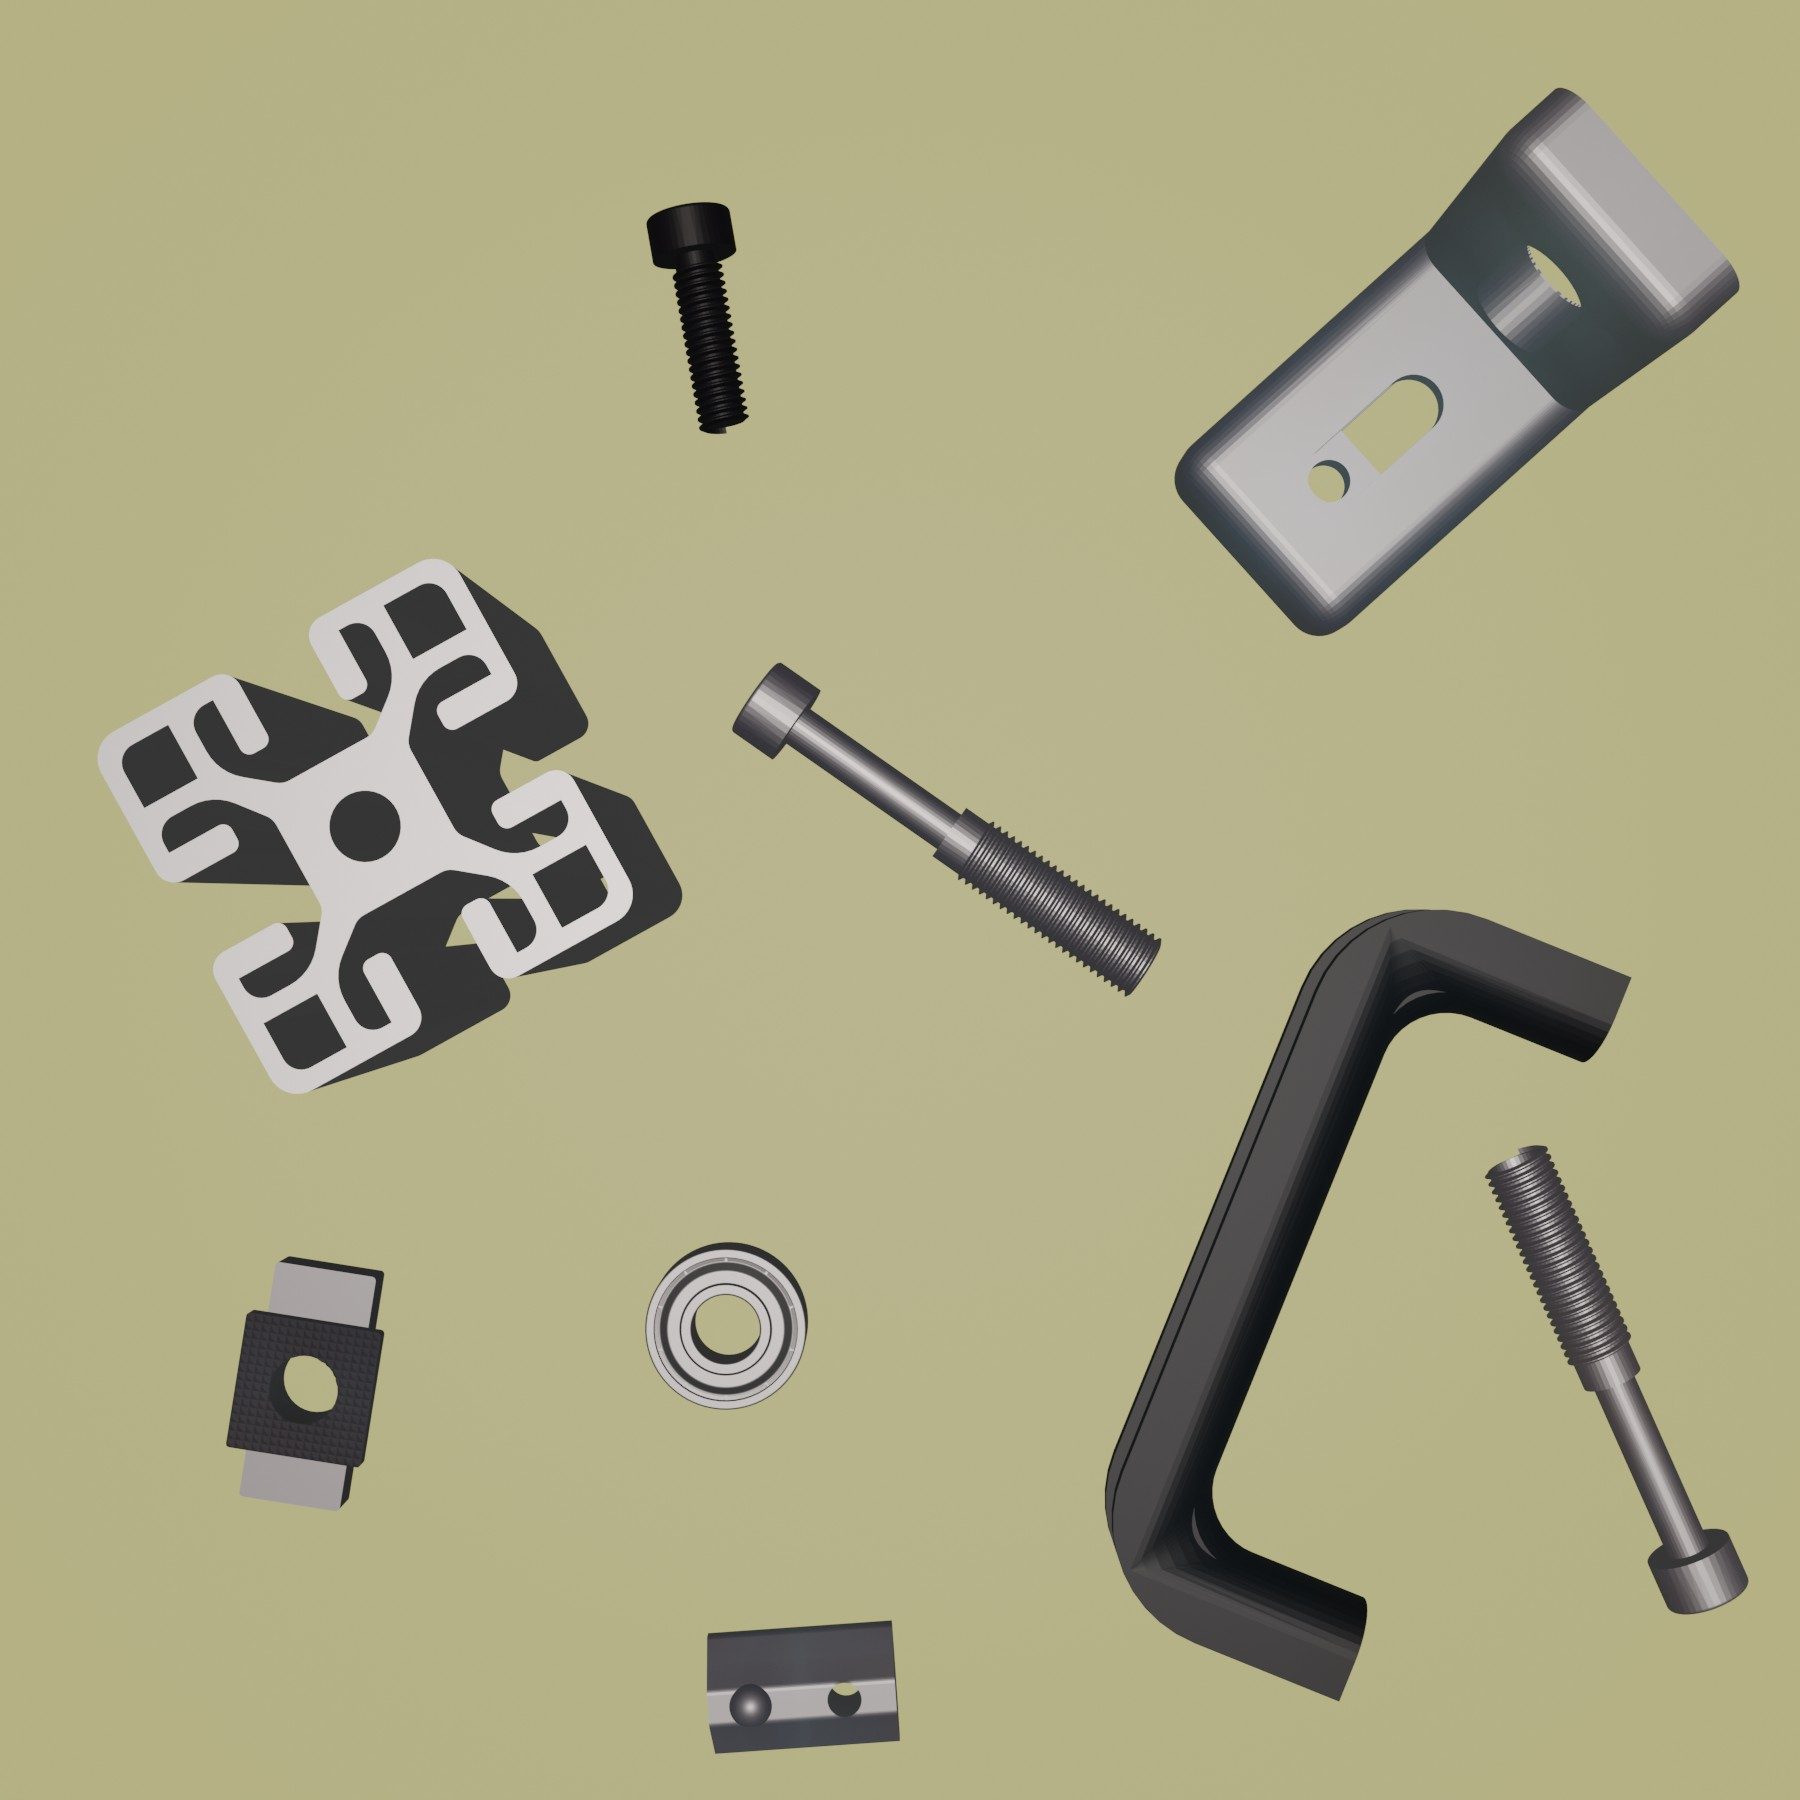Aluminium Extension: (96, 552, 682, 1101)
Ball Bearing: (645, 1240, 813, 1411)
Multiwinkel: (1174, 87, 1744, 641)
Pull Handle: (1101, 905, 1635, 1704)
Shoulder Socket Head Cap Screw: (729, 661, 1162, 1001), (1479, 1141, 1751, 1619)
Socket Head Cap Screw: (641, 198, 752, 437)
T Nut Square: (224, 1251, 392, 1515)
T Spring Nut: (702, 1619, 902, 1759)
